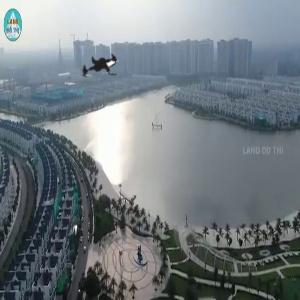drone: (71, 40, 132, 101)
